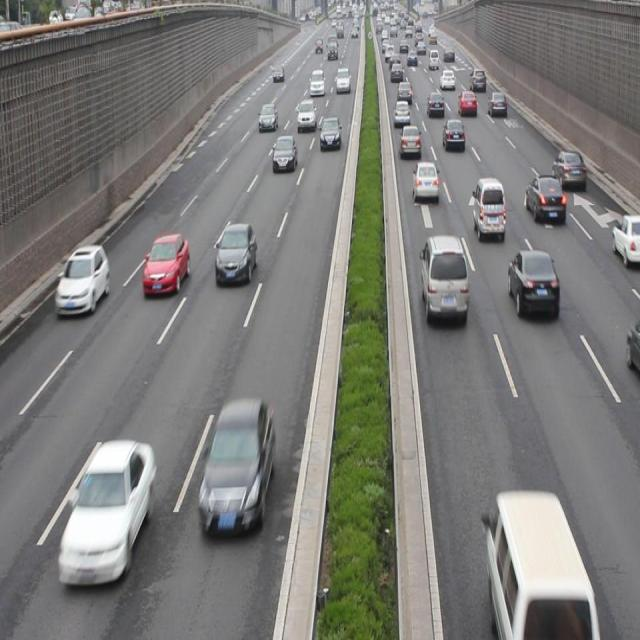car: (60, 436, 155, 583), (197, 394, 275, 530), (56, 244, 110, 314), (506, 246, 558, 318), (142, 233, 190, 296), (214, 220, 255, 286), (525, 172, 564, 227), (610, 212, 640, 265), (550, 149, 585, 192), (412, 160, 438, 201), (272, 134, 297, 174), (319, 116, 342, 151), (442, 116, 464, 151), (398, 124, 421, 157), (296, 98, 316, 130), (258, 101, 276, 130), (394, 99, 409, 126)
truck: (488, 487, 597, 640), (417, 235, 467, 321), (472, 177, 505, 239)
